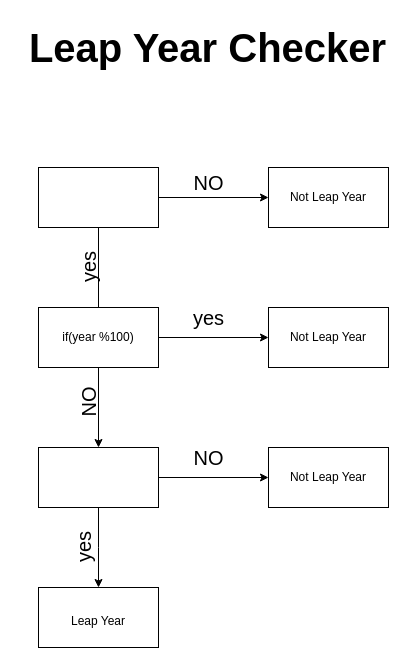
The diagram is 414 pixels wide and 665 high, and some of its shapes have lost their labels. The centre of each missing label's shape, as x and y in pixels:
if (year%4): [98,197]
if(year %400): [98,477]
